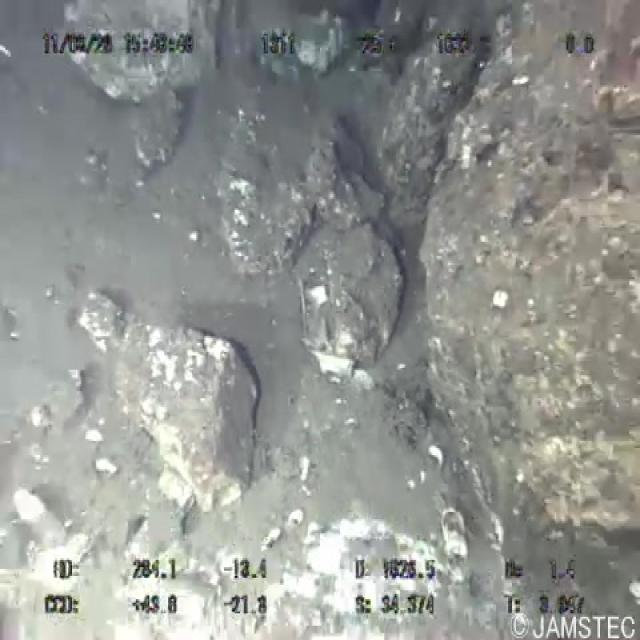plastic: (292, 270, 359, 380)
